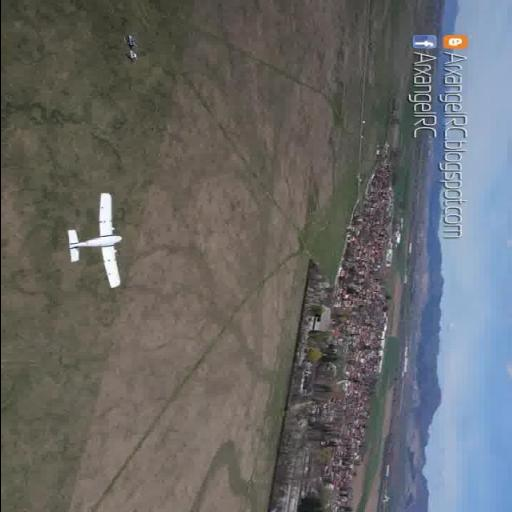uav: (65, 190, 127, 293)
